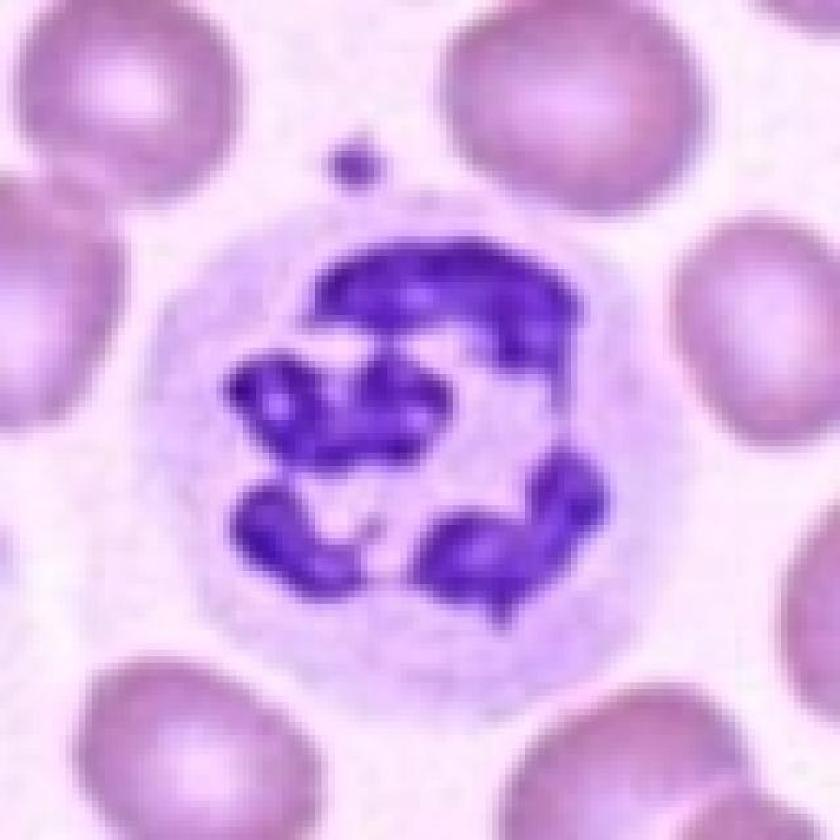neutrophil: (136, 186, 682, 732)
